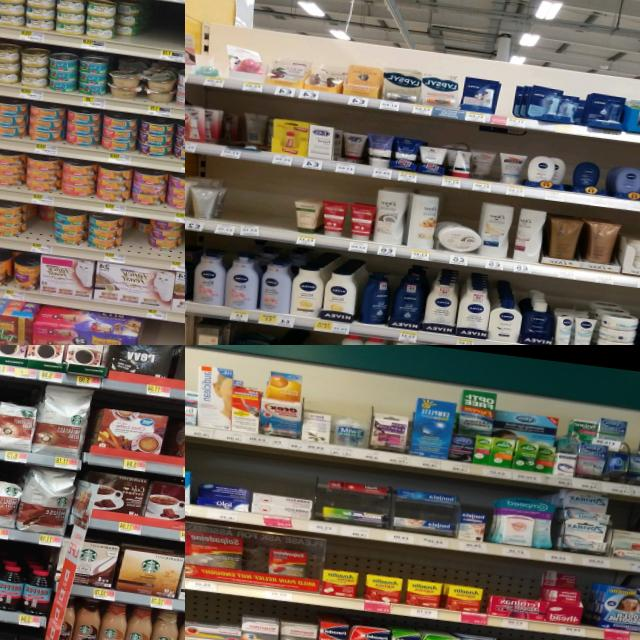100% O.O.S: (240, 178, 296, 243), (218, 176, 245, 237), (495, 82, 516, 126), (315, 334, 339, 345)
100- O.O.S: (147, 1, 185, 61), (179, 228, 185, 273)
